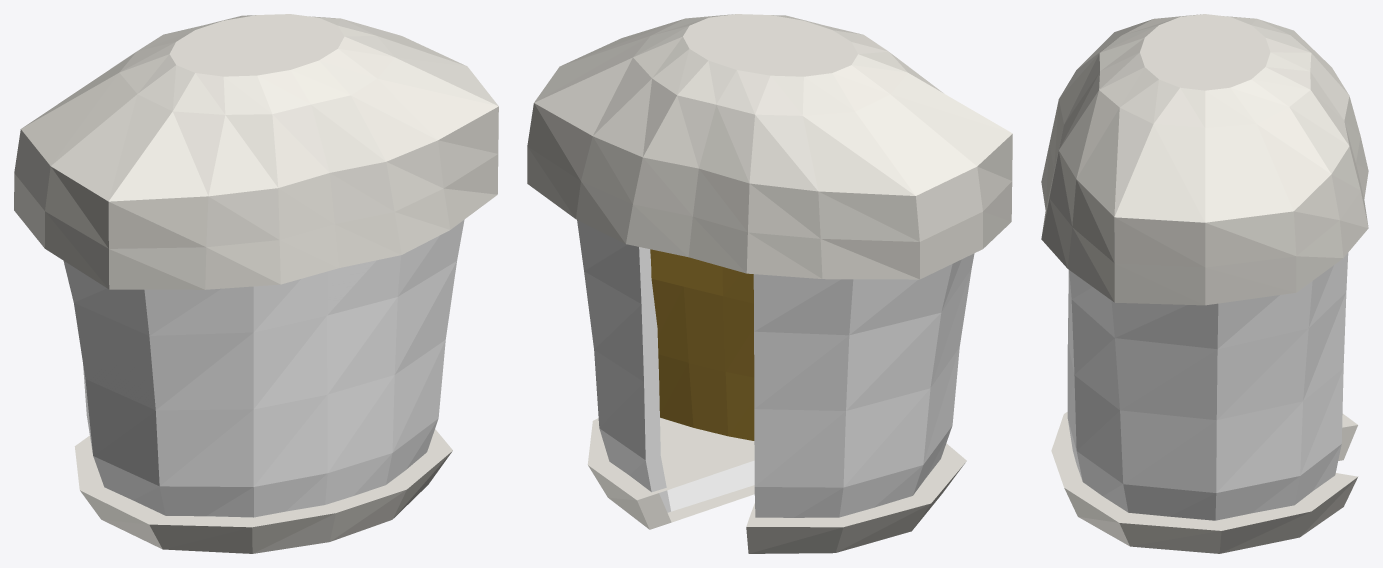
Rendered from vfem2_hulk_kings_robes.obj.
3 views of the same model, side by side, from view 1: azimuth 30°, elevation 25°; view 2: azimuth 150°, elevation 25°; view 3: azimuth 270°, elevation 25° (orthographic). The views are drawn at different scales.
Parts seen in each view (by area): view 1: vfem2_hulk_kings_robes; view 2: vfem2_hulk_kings_robes; view 3: vfem2_hulk_kings_robes.
Boxes of the visible parts, x1,y1,x2,y2 form: vfem2_hulk_kings_robes: (14,14,498,553); vfem2_hulk_kings_robes: (527,14,1012,553); vfem2_hulk_kings_robes: (1041,14,1368,553).
Bounding box in the file's own units: 0.7896 × 0.79 × 0.5435.
